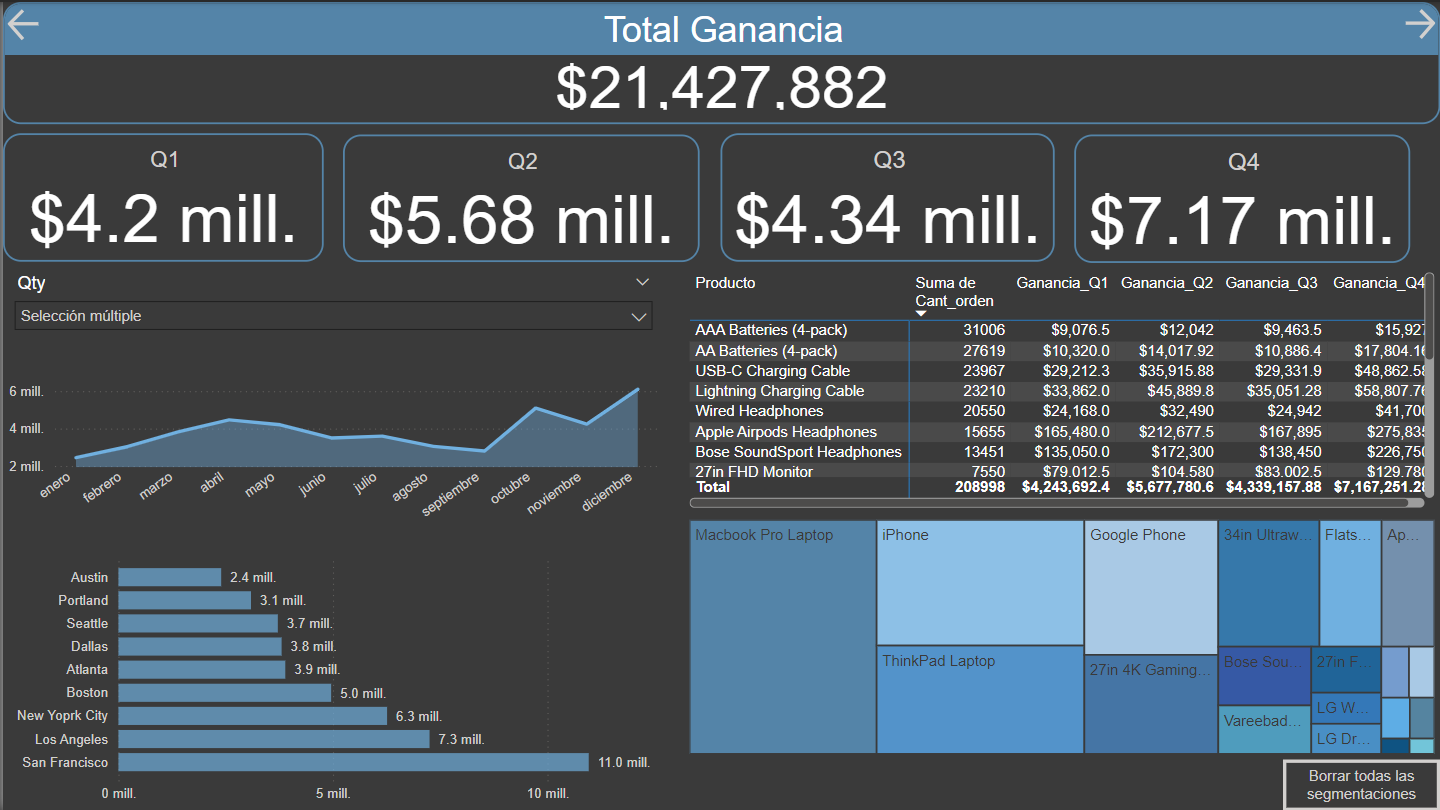

The page's visual inventory and layout, read from the dashboard file:
{"tool":"powerbi","page":{"name":"Analisis_Ganancias","canvas":[1280,720],"ordinal":3},"visuals":[{"type":"card","fields":{"Values":["Medidas.Ganancia_Q1"]},"box":[0,117,285.9,114.6],"z":0},{"type":"card","fields":{"Values":["Medidas.Ganancia_Q2"]},"box":[302.8,118.2,317.3,113.4],"z":1000},{"type":"card","fields":{"Values":["Medidas.Ganancia_Q3"]},"box":[639.4,117,298,114.6],"z":2000},{"type":"card","fields":{"Values":["Medidas.Ganancia_Q4"]},"box":[954.3,118.2,299.2,114.6],"z":3000},{"type":"card","title":"Total Ganancia","fields":{"Values":["Medidas.Total_Ganancia"]},"box":[0,0,1280.3,108.7],"z":4000},{"type":"actionButton","box":[1243.8,0,36.2,39.8],"z":5000},{"type":"actionButton","box":[0,0,37.4,39.8],"z":6000},{"type":"pivotTable","fields":{"Rows":["Producto.Producto"],"Values":["Sum(Orden_de_compra.Cant_orden)","Medidas.Ganancia_Q1","Medidas.Ganancia_Q2","Medidas.Ganancia_Q3","Medidas.Ganancia_Q4"]},"box":[606.8,236.5,673.2,219.6],"z":7000},{"type":"treemap","fields":{"Group":["Producto.Producto"],"Values":["Sum(Orden_de_compra.Ganancia_total)"]},"box":[606.8,456,673.2,218.4],"z":8000},{"type":"stackedAreaChart","fields":{"Category":["Tabla_Calendario.Mes (nombre)"],"Y":["Sum(Orden_de_compra.Gcia_total)"]},"box":[0,299.2,588.7,174.9],"z":9000},{"type":"actionButton","box":[1140.1,674.4,139.9,45.8],"z":10000},{"type":"barChart","fields":{"Category":["Ciudad.Nombre_ciudad"],"Y":["Sum(Orden_de_compra.Gcia_total)"]},"box":[0,482.6,606.8,237.7],"z":11000},{"type":"slicer","fields":{"Values":["Tabla_Calendario.Trimestre"]},"box":[0,236.5,588.7,97.7],"z":12000}]}

Visuals, with their boxes in screenshot pixels (x1, y1, x2, y2), scaled from the page's 1280x720 canvas onto the 1440x810 screenshot:
card - Medidas.Ganancia_Q1: (0,132,322,261)
card - Medidas.Ganancia_Q2: (341,133,698,261)
card - Medidas.Ganancia_Q3: (719,132,1055,261)
card - Medidas.Ganancia_Q4: (1074,133,1410,262)
"Total Ganancia" card: (0,0,1439,122)
actionButton: (1399,0,1439,45)
actionButton: (0,0,42,45)
pivotTable - Producto.Producto x Sum(Orden_de_compra.Cant_orden): (683,266,1439,513)
treemap - Producto.Producto x Sum(Orden_de_compra.Ganancia_total): (683,513,1439,759)
stackedAreaChart - Tabla_Calendario.Mes (nombre) x Sum(Orden_de_compra.Gcia_total): (0,337,662,533)
actionButton: (1283,759,1439,809)
barChart - Ciudad.Nombre_ciudad x Sum(Orden_de_compra.Gcia_total): (0,543,683,809)
slicer - Tabla_Calendario.Trimestre: (0,266,662,376)
